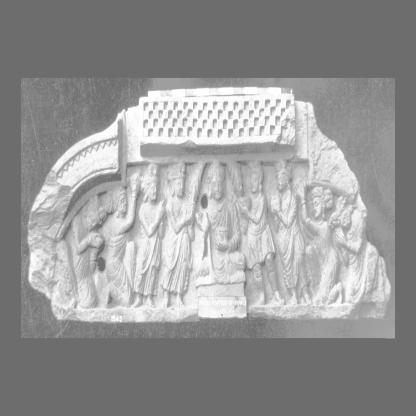buddha-sitting: (196, 160, 246, 318)
